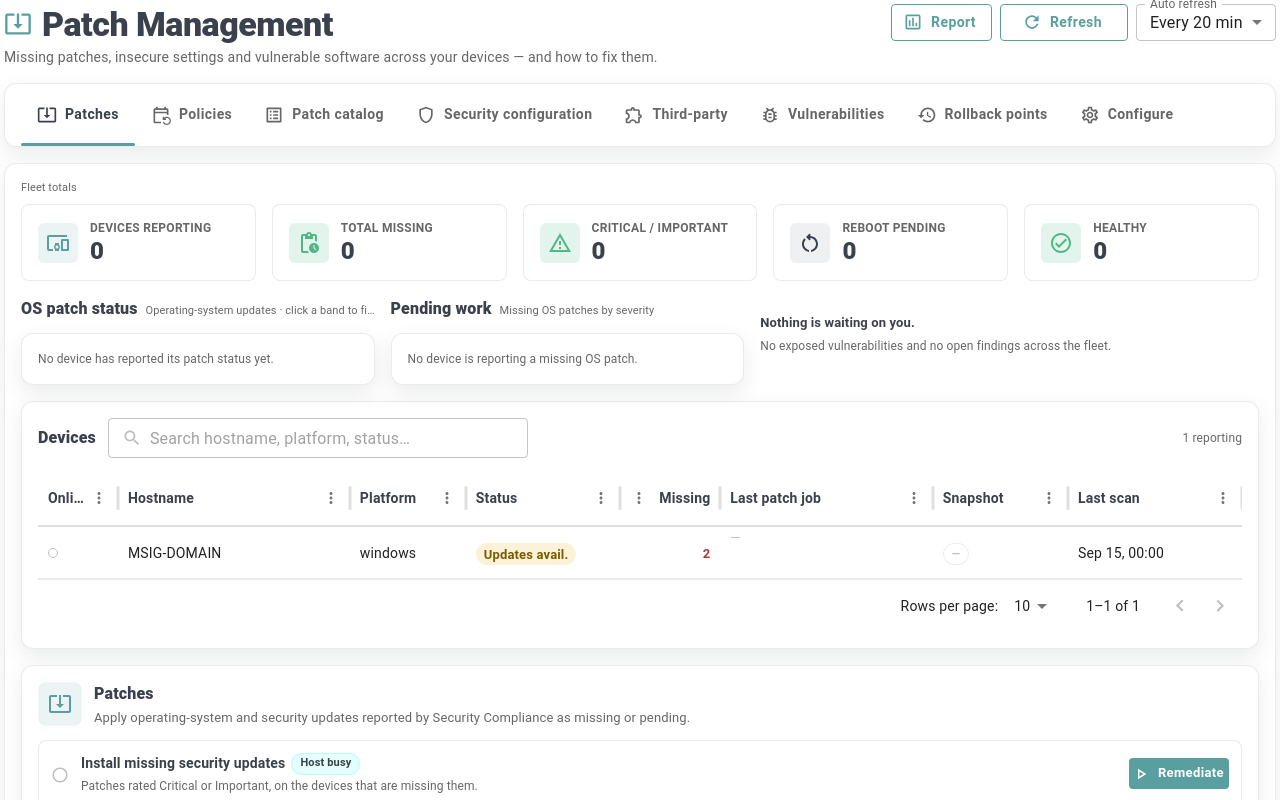
Test: Patch Management — instalar desde el panel lateral › ⭐ pregunta ANTES de mandar nada, y avisa de ventana y snapshot
Click the text "MSIG-DOMAIN".
click(234, 553)  # box left=118, top=527, right=350, bottom=579
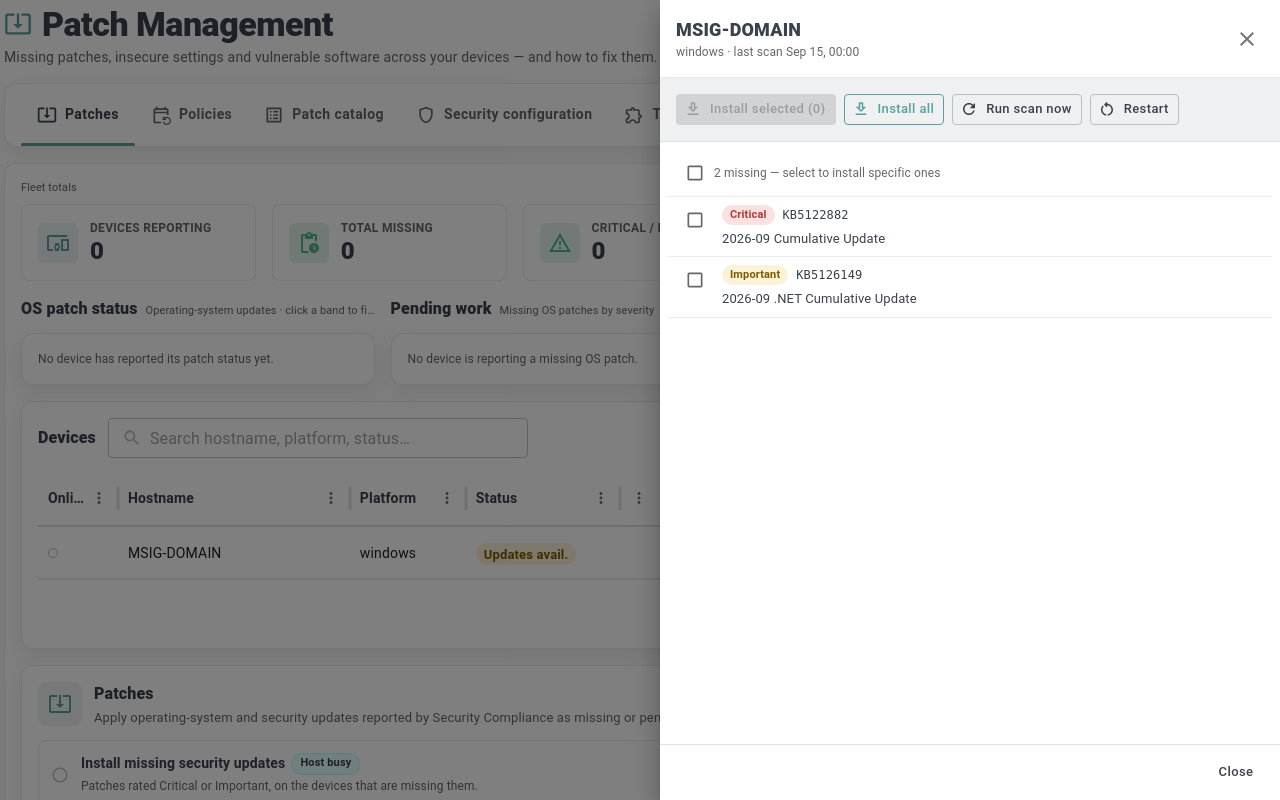
Check: the text "KB5122882" is shown, box left=782, top=206, right=848, bottom=224
Click the button "Install all".
click(894, 109)  # box left=844, top=94, right=944, bottom=125
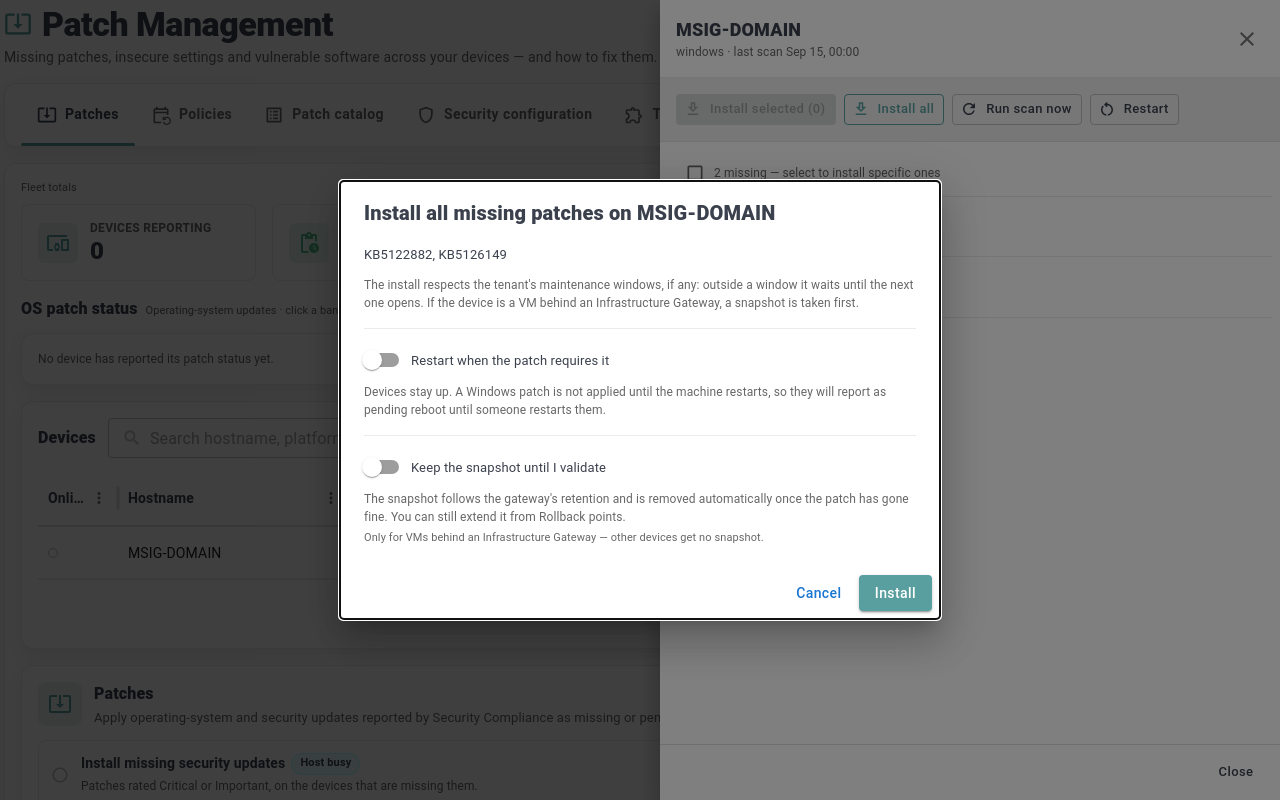
Check: the text "snapshot is taken first" is shown, box left=364, top=278, right=914, bottom=310
